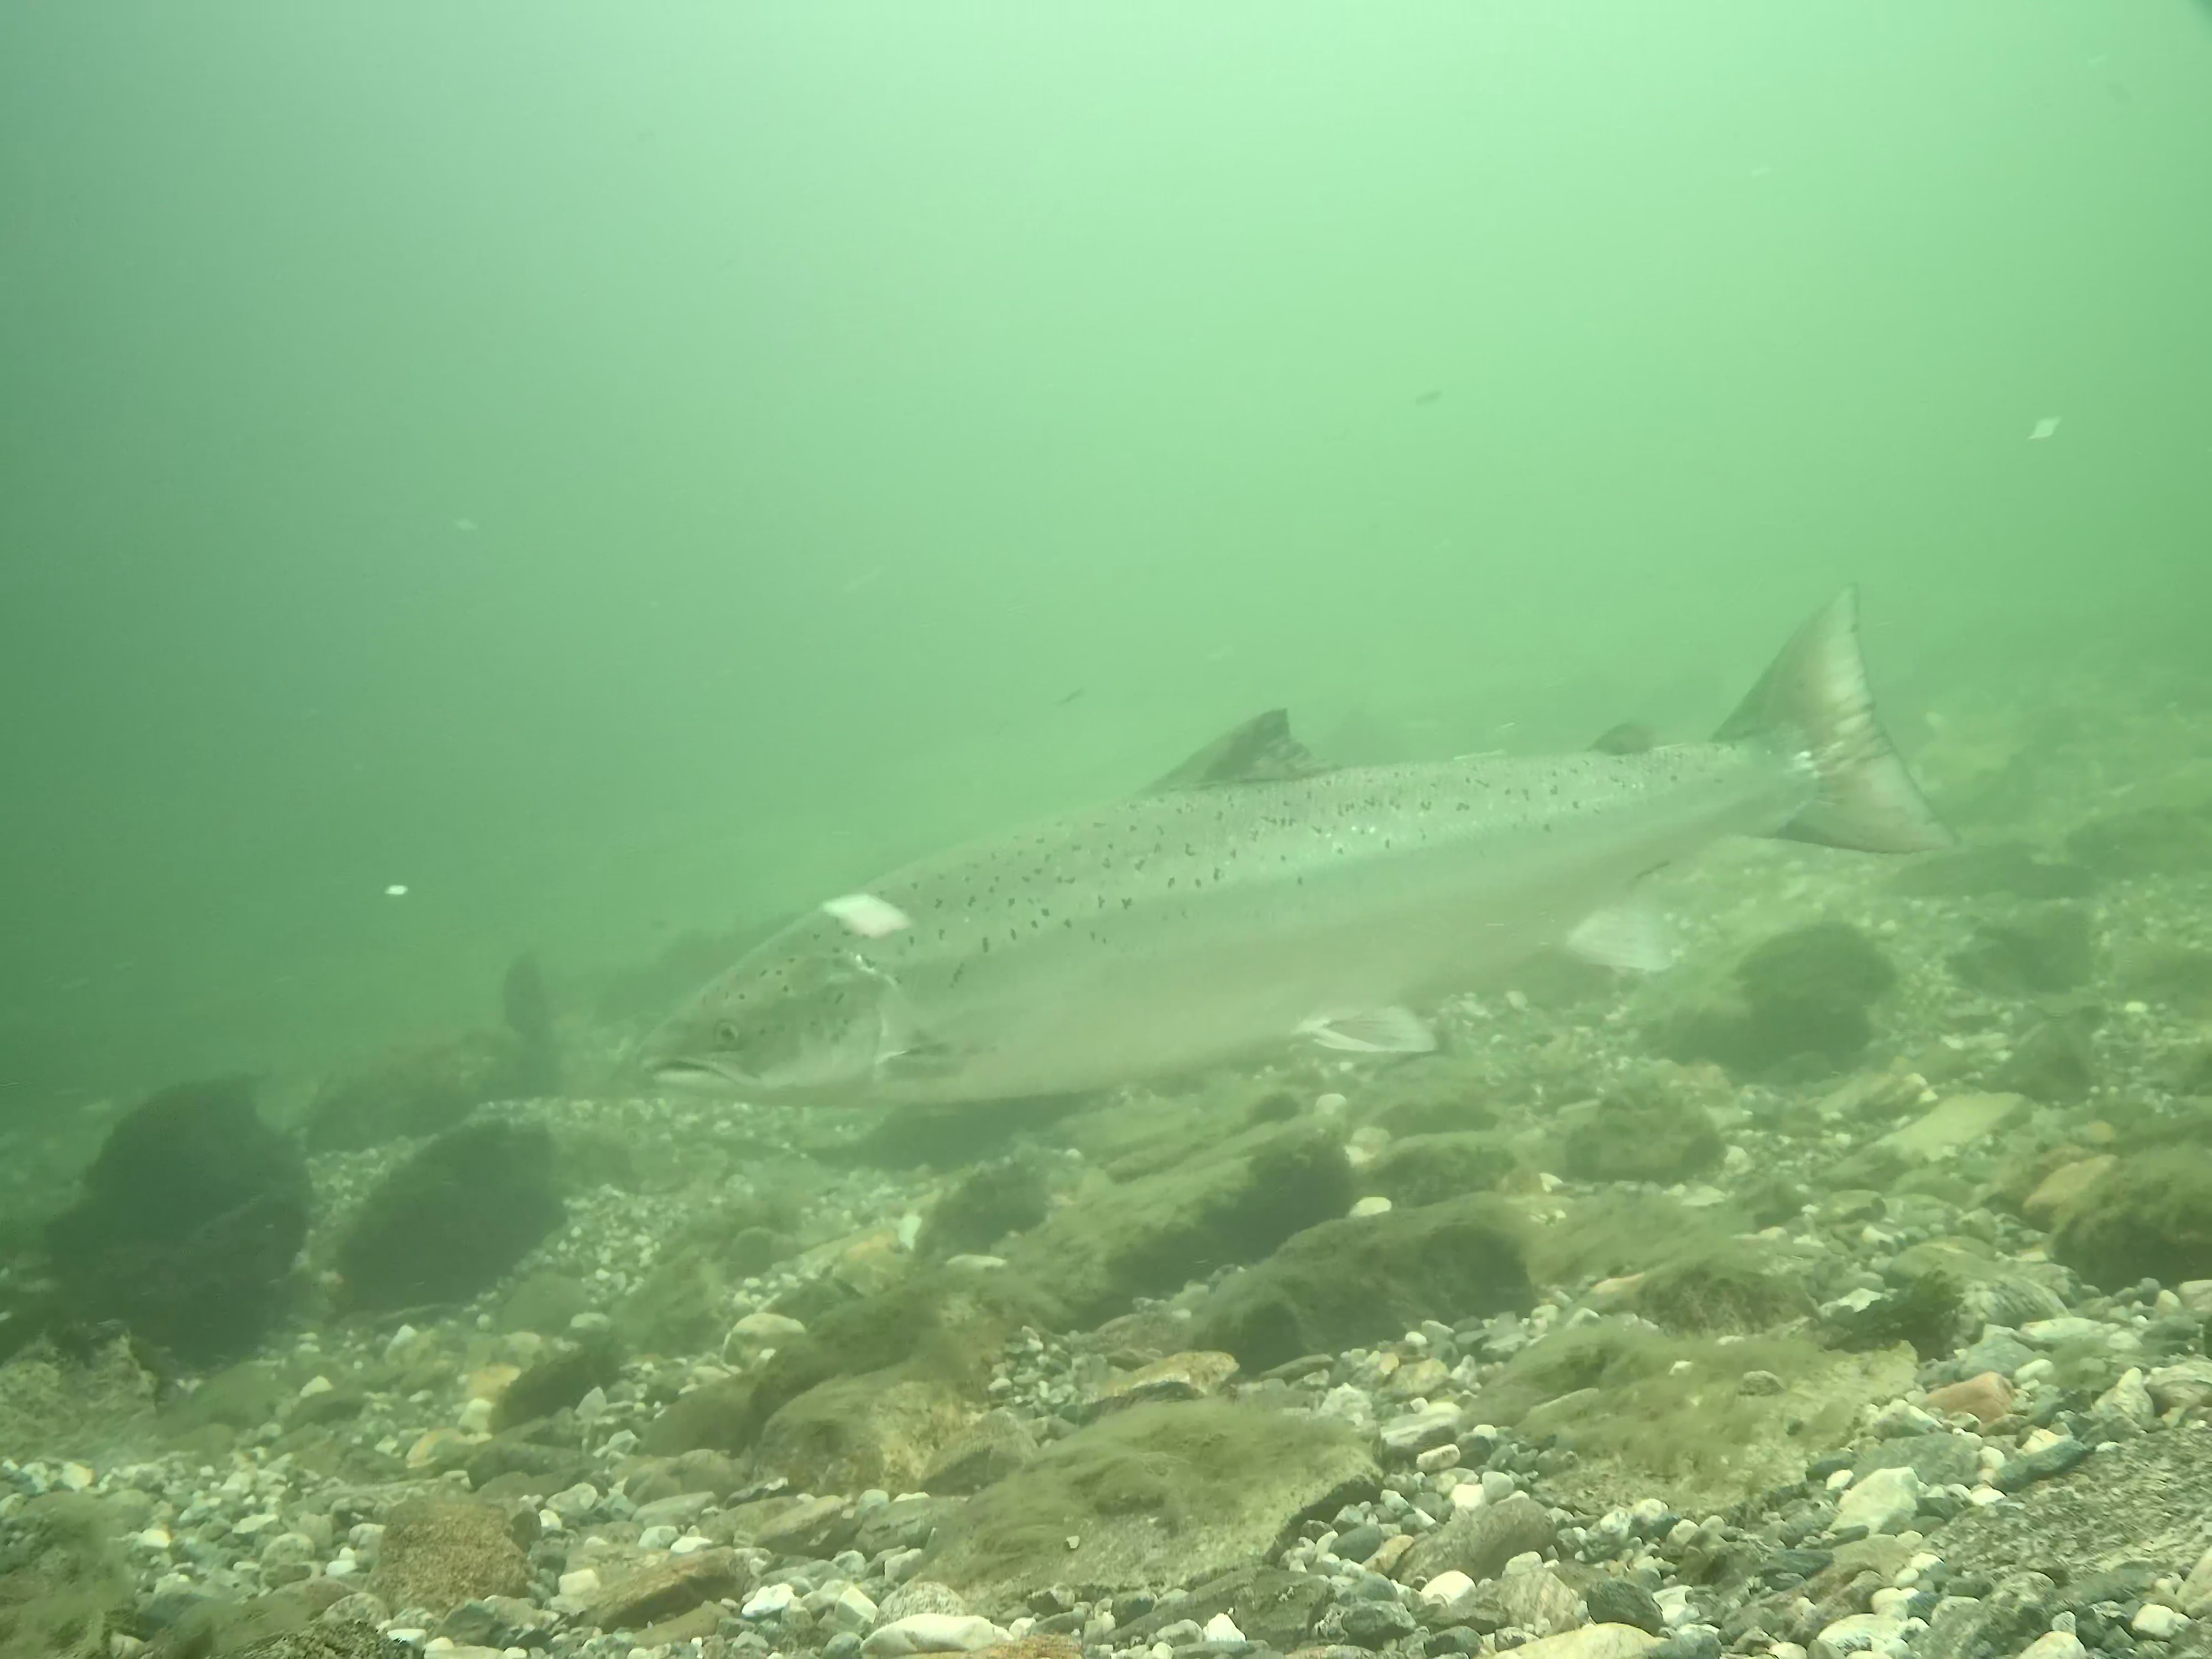salmon: (632, 580, 1965, 1114)
